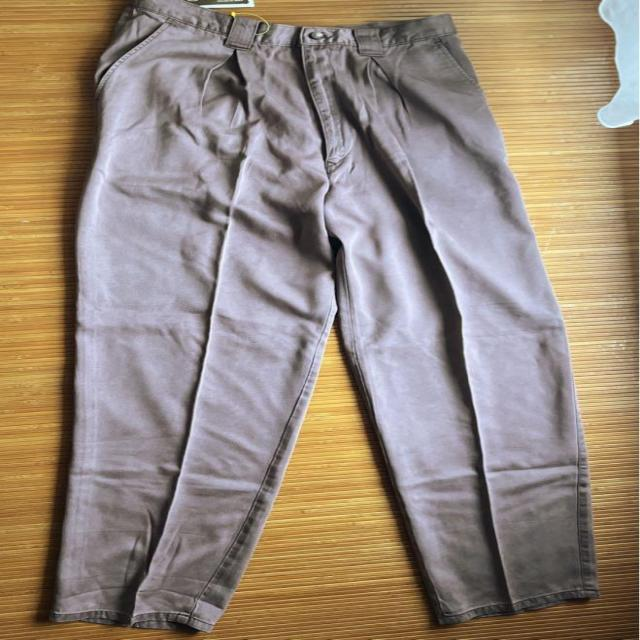long-pants: (40, 0, 603, 634)
